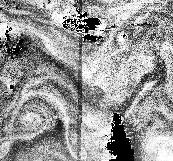CE: (2, 89, 64, 142)
